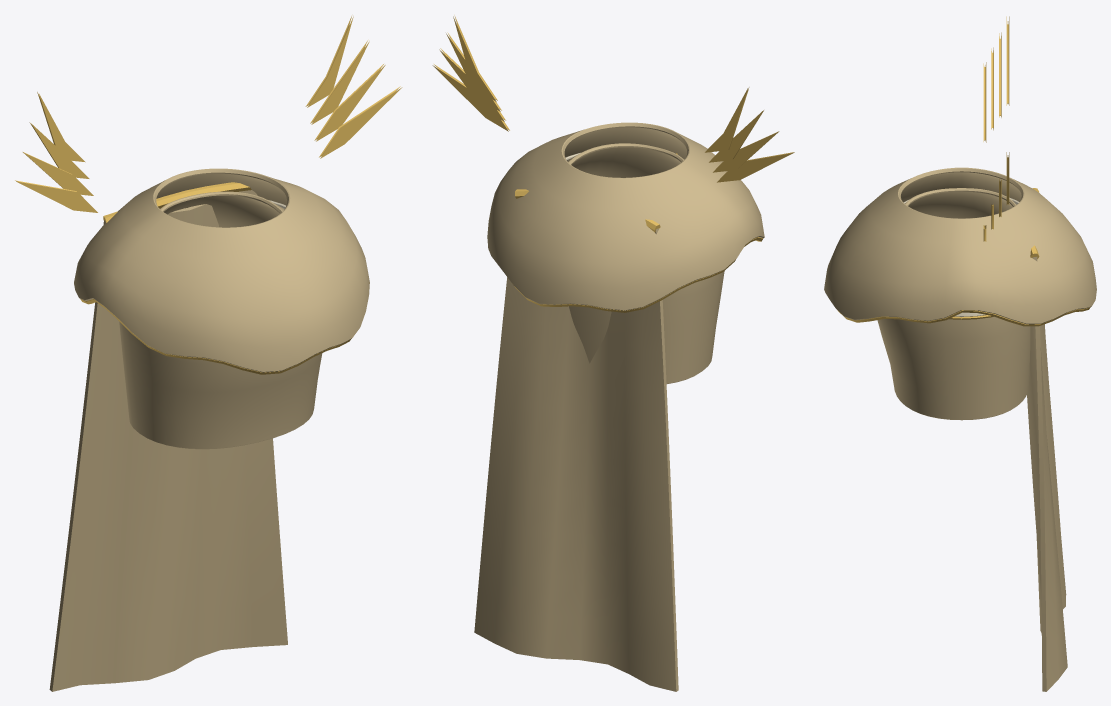
File: asc_cantor_of_dawn_armor.glb
3 renders of one model, left to right at view 1: azimuth 30°, elevation 25°; view 2: azimuth 150°, elevation 25°; view 3: azimuth 270°, elevation 25°, orthographic. The views are drawn at different scales.
Visible parts, largest first — view 1: asc_cantor_of_dawn_armor; view 2: asc_cantor_of_dawn_armor; view 3: asc_cantor_of_dawn_armor.
Boxes of the visible parts, x1,y1,x2,y2 form: asc_cantor_of_dawn_armor: [15, 16, 402, 691]; asc_cantor_of_dawn_armor: [432, 15, 794, 691]; asc_cantor_of_dawn_armor: [824, 16, 1096, 691].
Bounding box in the file's own units: 1.03 × 1.61 × 0.7093.
